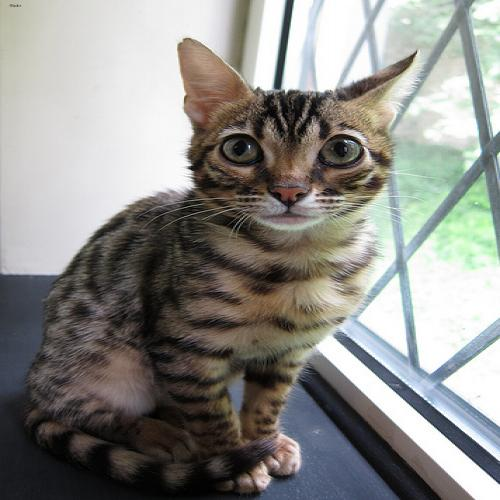bengal: (161, 32, 438, 242)
